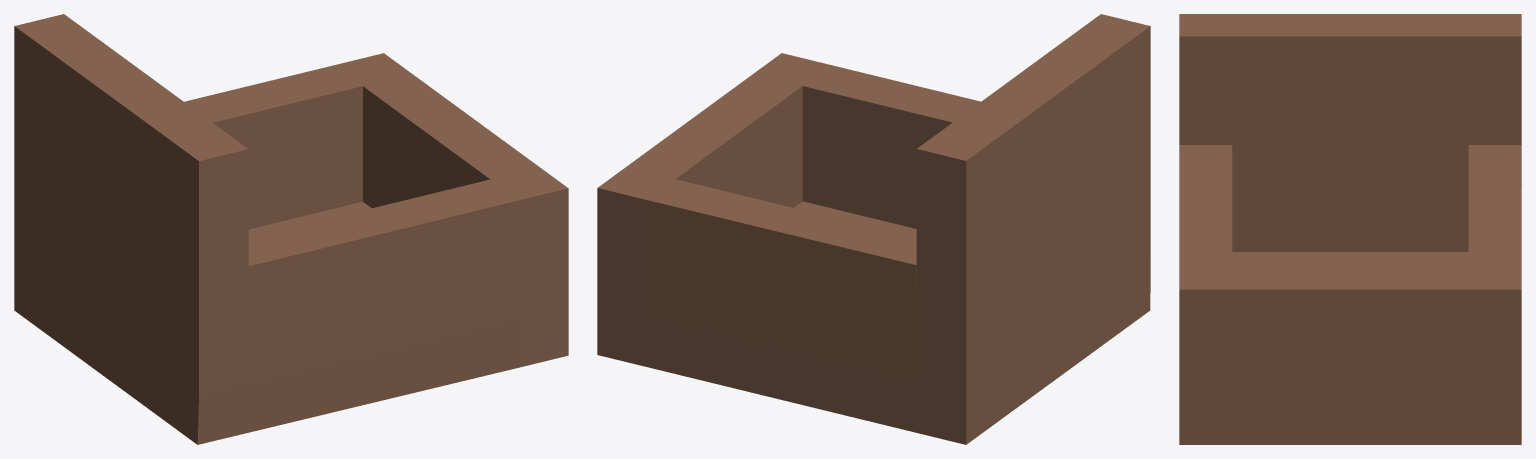
The model's file is DamExport.fbx.
3 views of the same model, side by side, from view 1: azimuth 30°, elevation 25°; view 2: azimuth 150°, elevation 25°; view 3: azimuth 270°, elevation 25° (orthographic). The views are drawn at different scales.
Visible parts, largest first — view 1: Dam; view 2: Dam; view 3: Dam.
Part boxes in pixels (x1,y1,x2,y2): Dam: (14,14,568,444); Dam: (597,14,1150,444); Dam: (1179,14,1521,444).
Size of the model in its own units: 231 by 170 by 200.
